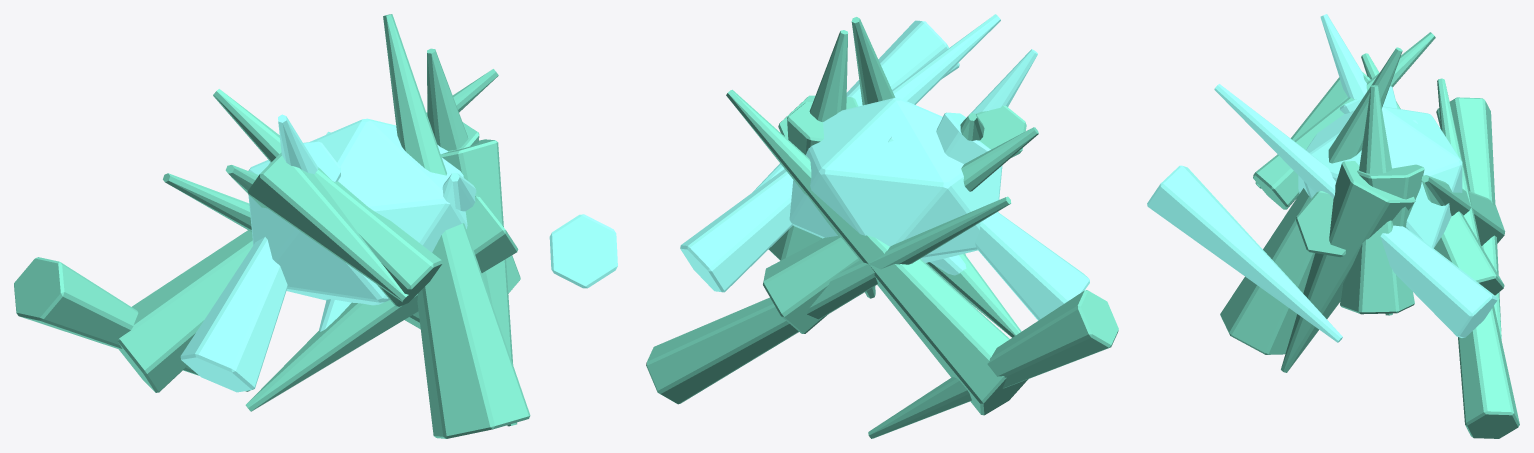
Rendered from SM_LanternCluster.fbx.
3 renders of one model, left to right at view 1: azimuth 30°, elevation 25°; view 2: azimuth 150°, elevation 25°; view 3: azimuth 270°, elevation 25°, orthographic. The views are drawn at different scales.
Visible parts, largest first — view 1: SM_LanternCluster; view 2: SM_LanternCluster; view 3: SM_LanternCluster.
Boxes of the visible parts, <box> form: SM_LanternCluster: <box>14,14,617,438</box>; SM_LanternCluster: <box>646,14,1118,438</box>; SM_LanternCluster: <box>1147,14,1519,438</box>.
Bounding box in the file's own units: 163 × 130 × 130.
